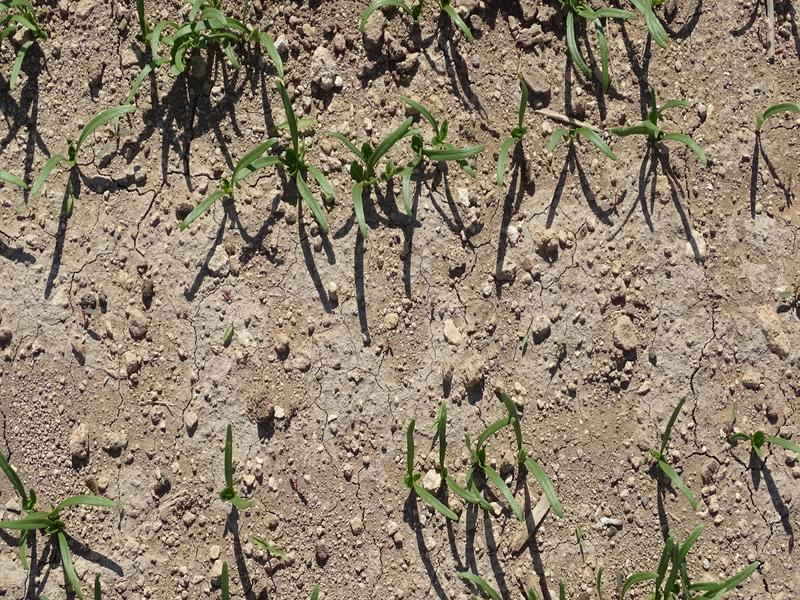Espinaca: (188, 95, 474, 237), (400, 396, 564, 518), (1, 482, 116, 582), (631, 518, 769, 600), (152, 3, 295, 79), (547, 102, 714, 165), (24, 103, 140, 192), (562, 1, 678, 82), (648, 396, 705, 503), (461, 562, 607, 600), (1, 1, 40, 94), (735, 427, 800, 465), (355, 1, 416, 28), (498, 127, 525, 181), (447, 4, 480, 37), (125, 65, 151, 98)
